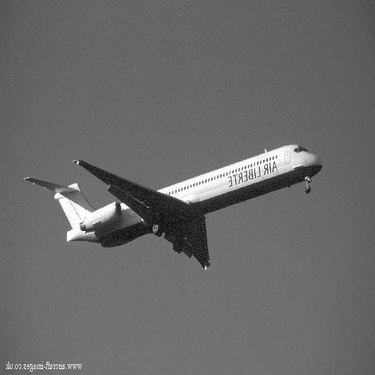airplane: (16, 126, 333, 279)
